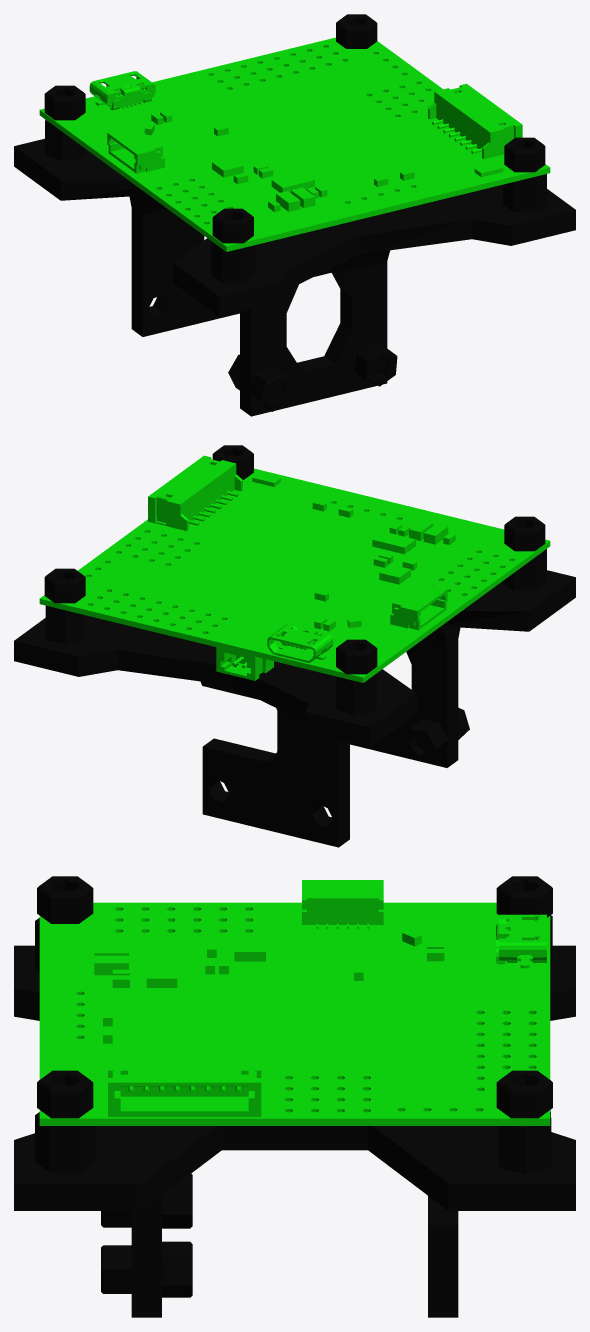
File: fc_euclid201806.dae
3 views of the same model, one above another, from view 1: azimuth 30°, elevation 25°; view 2: azimuth 150°, elevation 25°; view 3: azimuth 270°, elevation 25° (orthographic). The views are drawn at different scales.
Visible parts, largest first — view 1: Fc_Euclid201806_Green, Fc_Euclid201806_Black; view 2: Fc_Euclid201806_Green, Fc_Euclid201806_Black; view 3: Fc_Euclid201806_Green, Fc_Euclid201806_Black.
Part boxes in pixels (left/top/right/bottom): Fc_Euclid201806_Green: left=39, top=37, right=550, bottom=251; Fc_Euclid201806_Black: left=14, top=14, right=575, bottom=416; Fc_Euclid201806_Green: left=39, top=455, right=550, bottom=682; Fc_Euclid201806_Black: left=14, top=445, right=575, bottom=847; Fc_Euclid201806_Green: left=39, top=880, right=550, bottom=1125; Fc_Euclid201806_Black: left=14, top=876, right=575, bottom=1317.
Bounding box in the file's own units: 0.055 × 0.055 × 0.0345.
